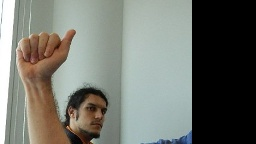Pugno: (12, 29, 76, 76)
